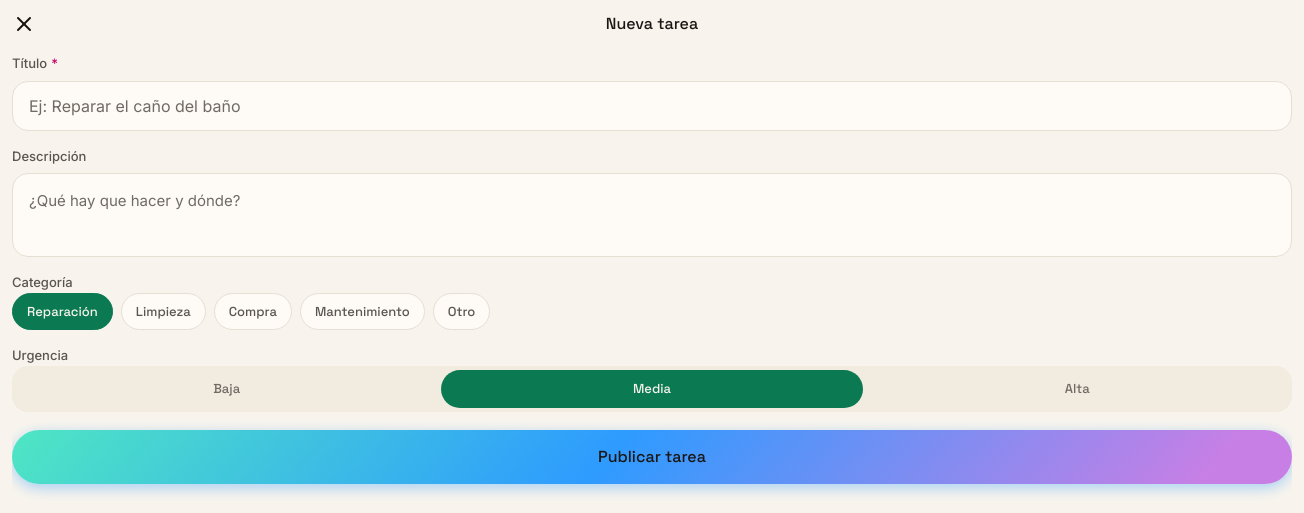
Scenario: NewTaskForm — Urgency (AC5) › lets the user pick another urgency
Click the radio button labelled "Alta" at {"x": 1077, "y": 388}, box [1065,380,1090,397]
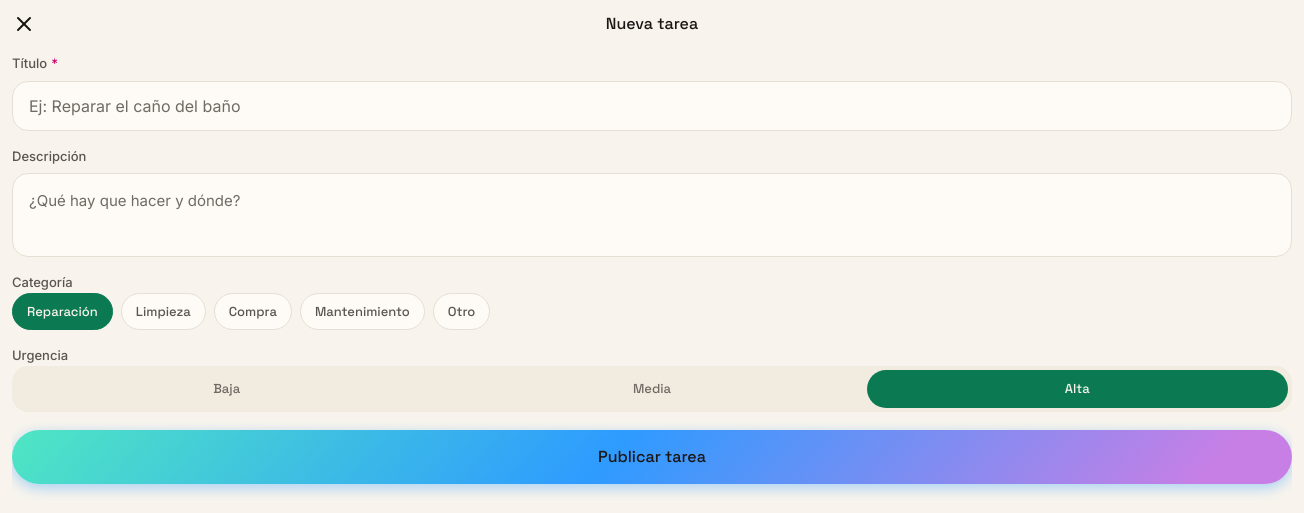
Expected: the radio button labelled "Alta" is checked, [867,370,1288,408]
Expected: the radio button labelled "Media" is not checked, [633,380,671,397]
